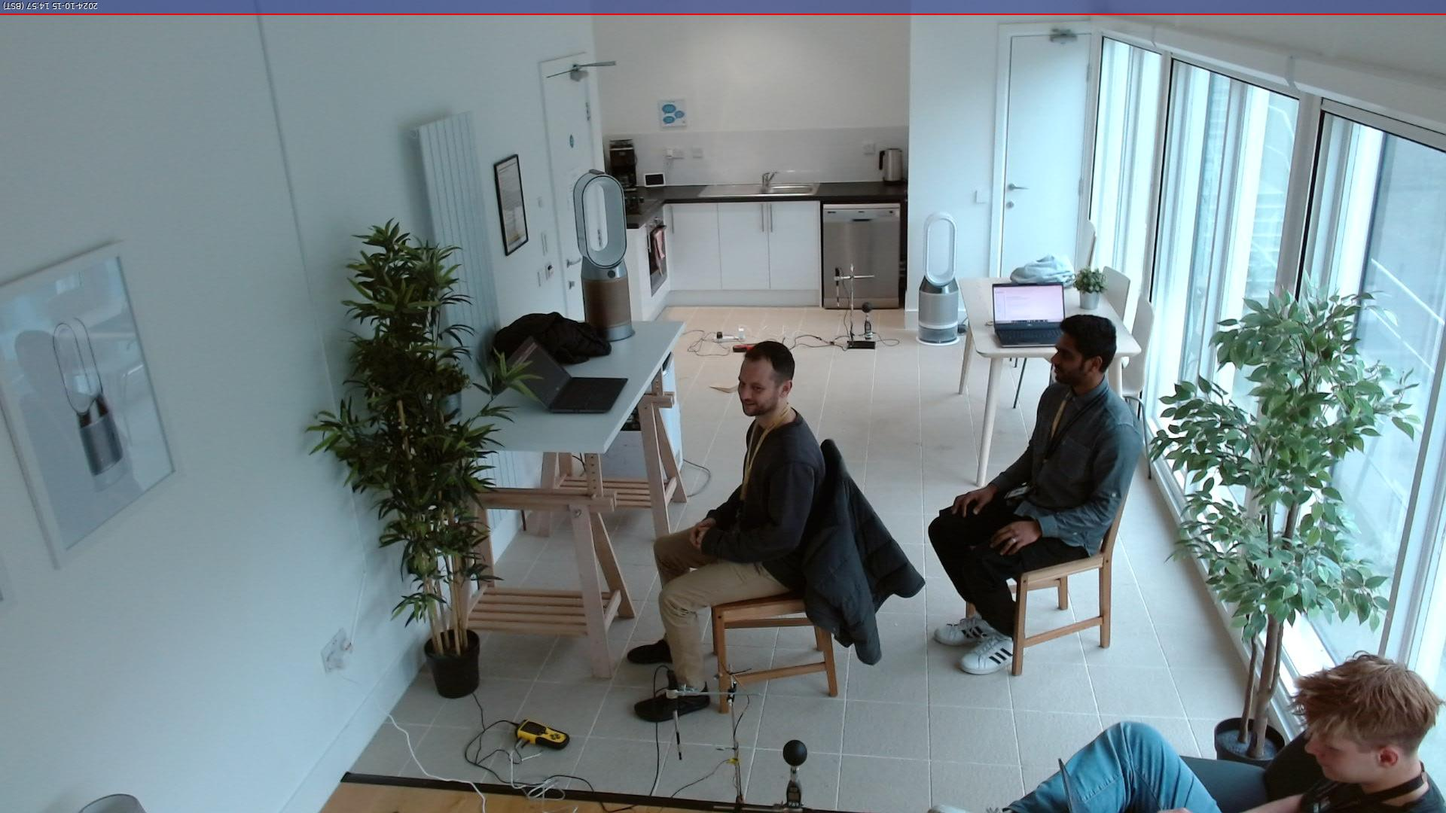long sleeve shirt: (987, 370, 1143, 559)
short sleeve shirt: (1293, 748, 1445, 813)
sweater: (702, 401, 828, 590)
trousers: (992, 712, 1229, 813), (649, 523, 790, 692), (924, 505, 1088, 648)
